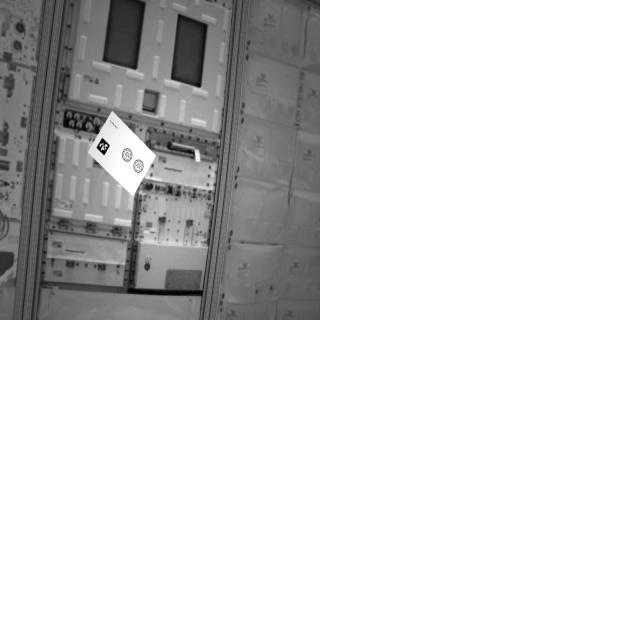coin: (133, 157, 146, 177), (122, 148, 134, 164)
